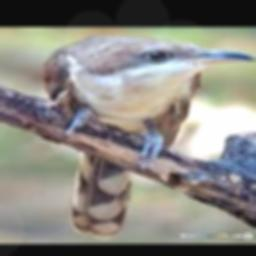Cuckoo: (41, 35, 256, 236)
